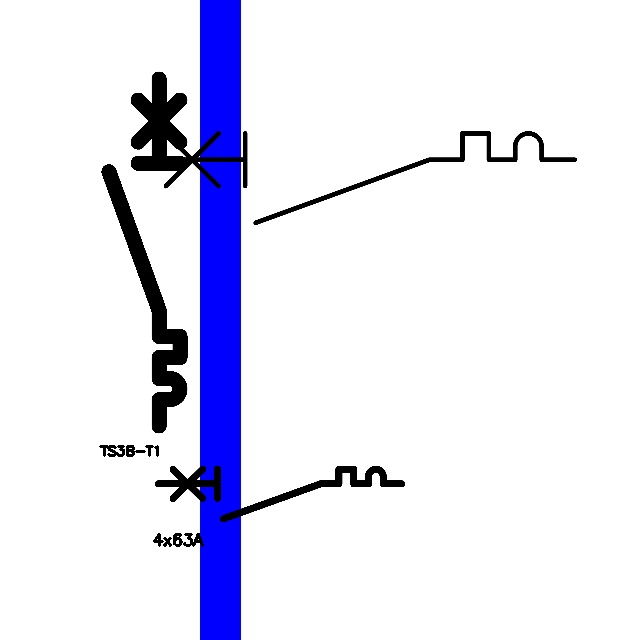interruptor_termomagnetico: (128, 122, 586, 234), (100, 70, 189, 435), (152, 463, 408, 525)
